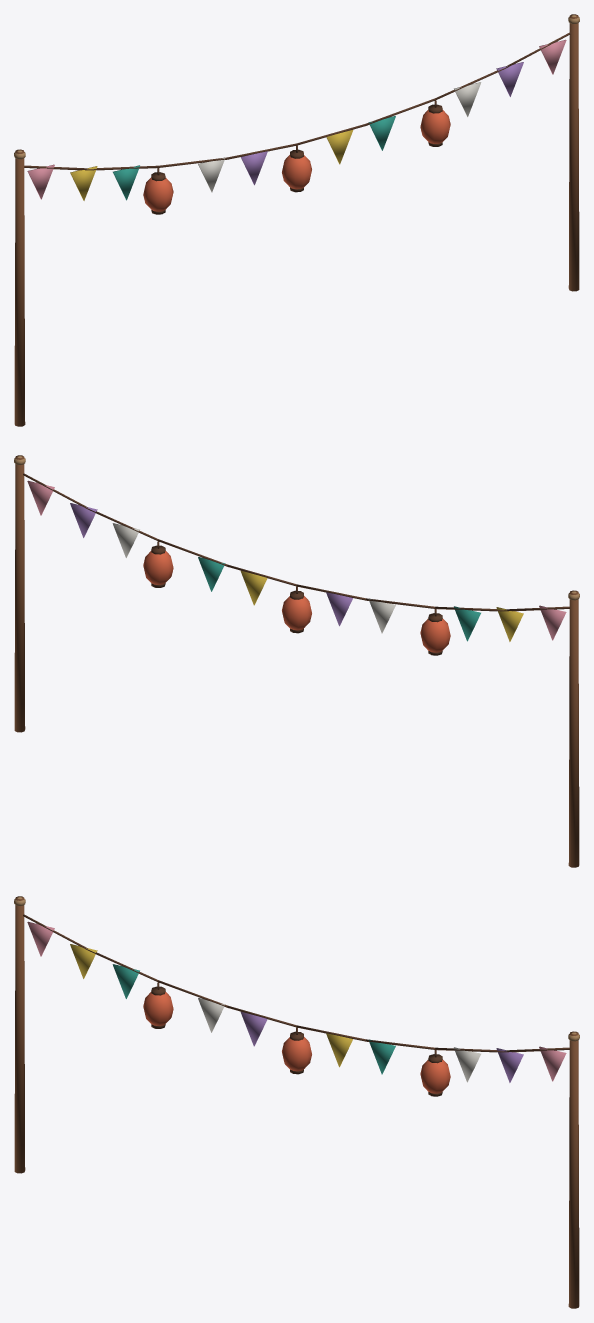
The model's file is bunting.glb.
The picture shows the model from 3 angles, top to bottom: view 1: azimuth 30°, elevation 25°; view 2: azimuth 150°, elevation 25°; view 3: azimuth 330°, elevation 25°; orthographic projection.
Visible parts, largest first — view 1: bunting, bunting_glow; view 2: bunting, bunting_glow; view 3: bunting, bunting_glow.
Boxes of the visible parts, bbox=[...] form: bunting: bbox=[14, 14, 579, 426]; bunting_glow: bbox=[143, 110, 450, 211]; bunting: bbox=[14, 455, 579, 867]; bunting_glow: bbox=[143, 551, 450, 652]; bunting: bbox=[14, 896, 579, 1308]; bunting_glow: bbox=[143, 992, 450, 1093].
Size of the model in its own units: 7.13 by 3.3 by 0.34.
